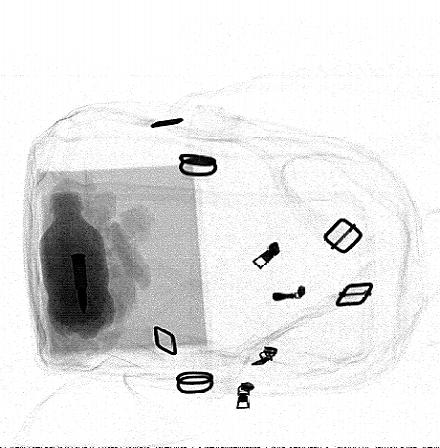Bullet: (70, 251, 87, 315)
